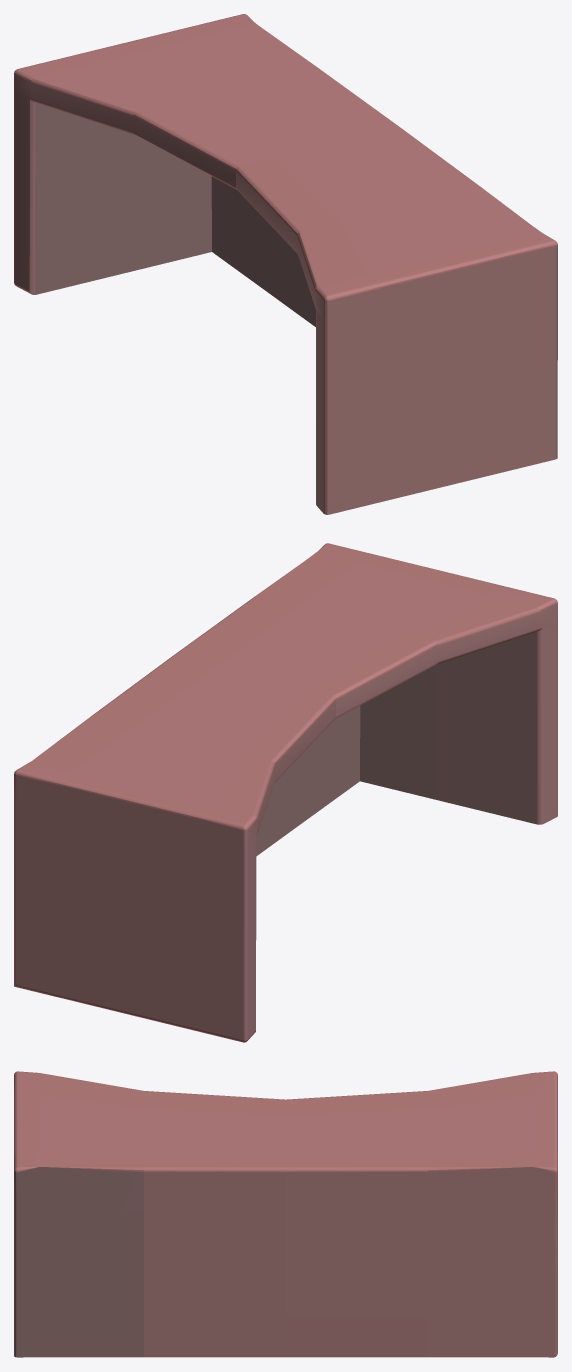
File: masa.fbx
The picture shows the model from 3 angles, top to bottom: view 1: azimuth 30°, elevation 25°; view 2: azimuth 150°, elevation 25°; view 3: azimuth 270°, elevation 25°; orthographic projection. The views are drawn at different scales.
Parts seen in each view (by area): view 1: pCube1; view 2: pCube1; view 3: pCube1.
Boxes of the visible parts, bbox=[...] form: pCube1: bbox=[14, 14, 557, 514]; pCube1: bbox=[14, 543, 557, 1042]; pCube1: bbox=[14, 1071, 557, 1357].
Size of the model in its own units: 4.71 by 4.19 by 10.96.
